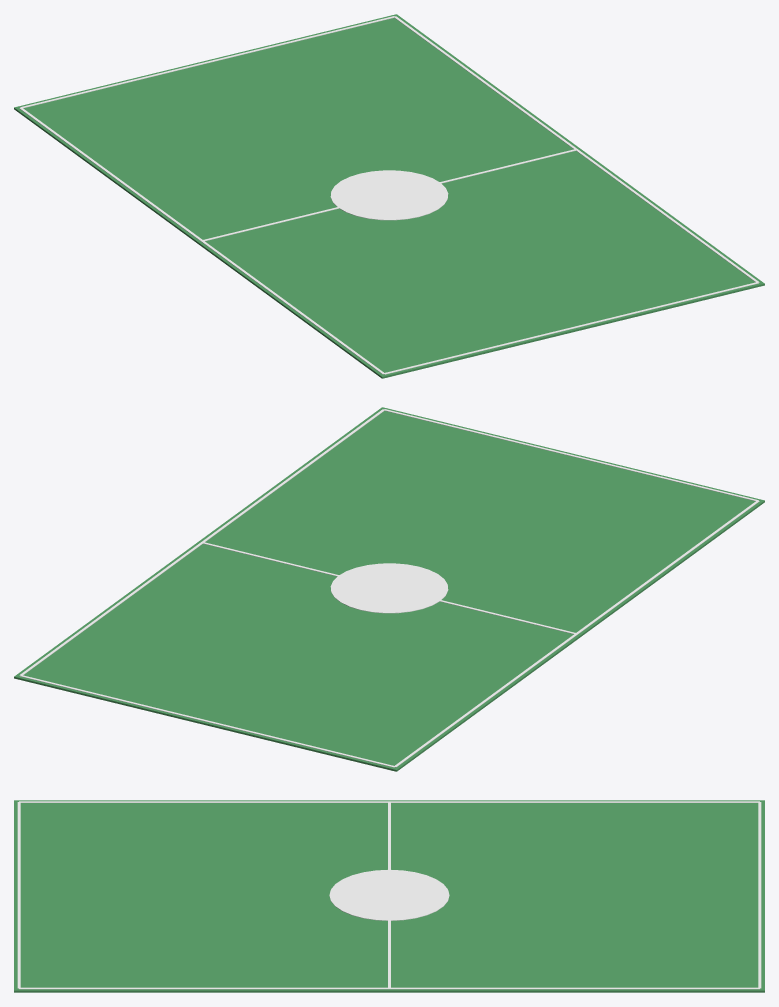
File: BikePolo_Court.fbx
3 renders of one model, top to bottom at view 1: azimuth 30°, elevation 25°; view 2: azimuth 150°, elevation 25°; view 3: azimuth 270°, elevation 25°, orthographic.
Parts seen in each view (by area): view 1: Court; view 2: Court; view 3: Court.
Part boxes in pixels (<box>): Court: <box>14,14,764,378</box>; Court: <box>14,407,764,771</box>; Court: <box>14,800,764,992</box>.
Size of the model in its own units: 18 by 0.1 by 30.
